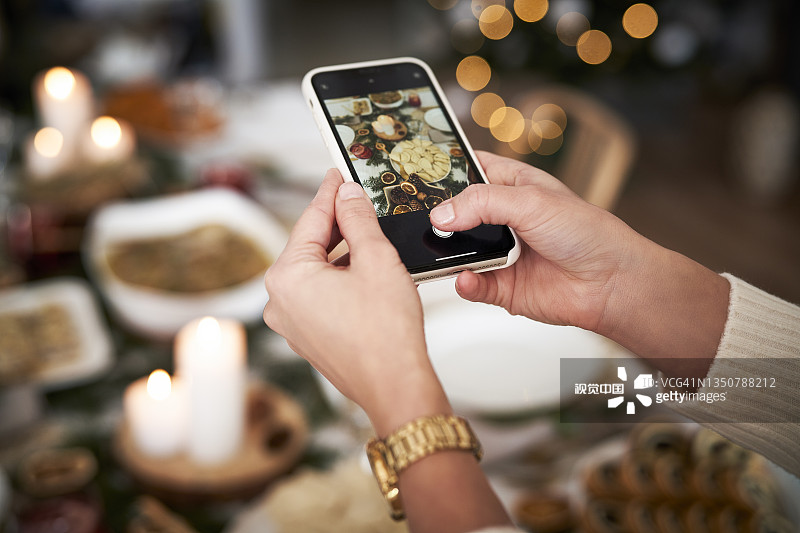taking photos: (246, 48, 699, 423)
